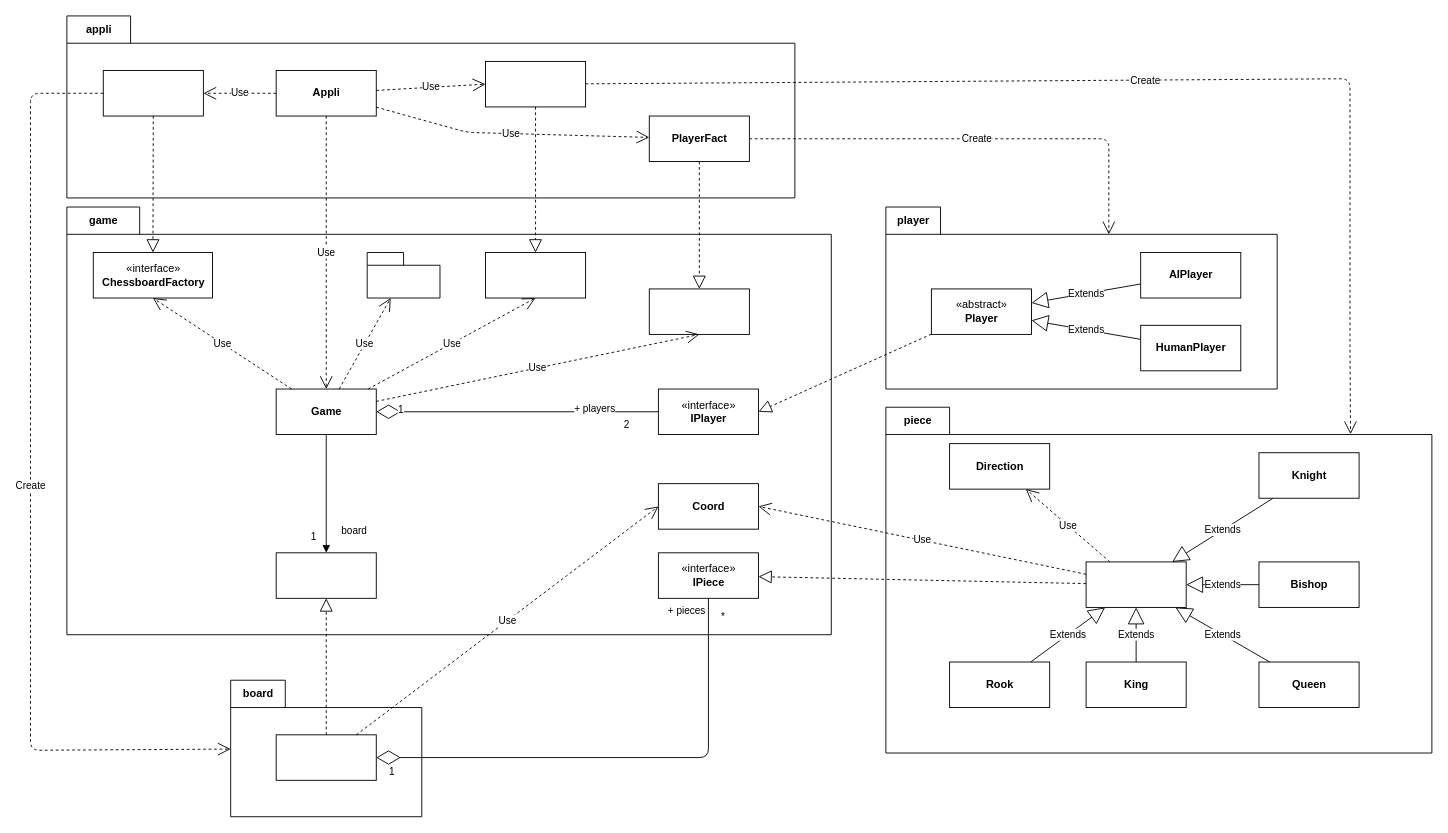
Some shapes in this 1448 by 833 pixel diagram are drawn without their labels. The centre of each missing label's shape, as x and y in pixels:
"Chessboard" belongs at [325,757].
"ChessboardFact" belongs at [152,93].
"exceptions" belongs at [403,275].
"PieceFact" belongs at [535,84].
"«abstract» Piece" belongs at [1135,584].
"«interface» IChessboard" belongs at [325,575].
"«interface» PieceFactory" belongs at [535,275].
"«interface» PlayerFactory" belongs at [698,311].
